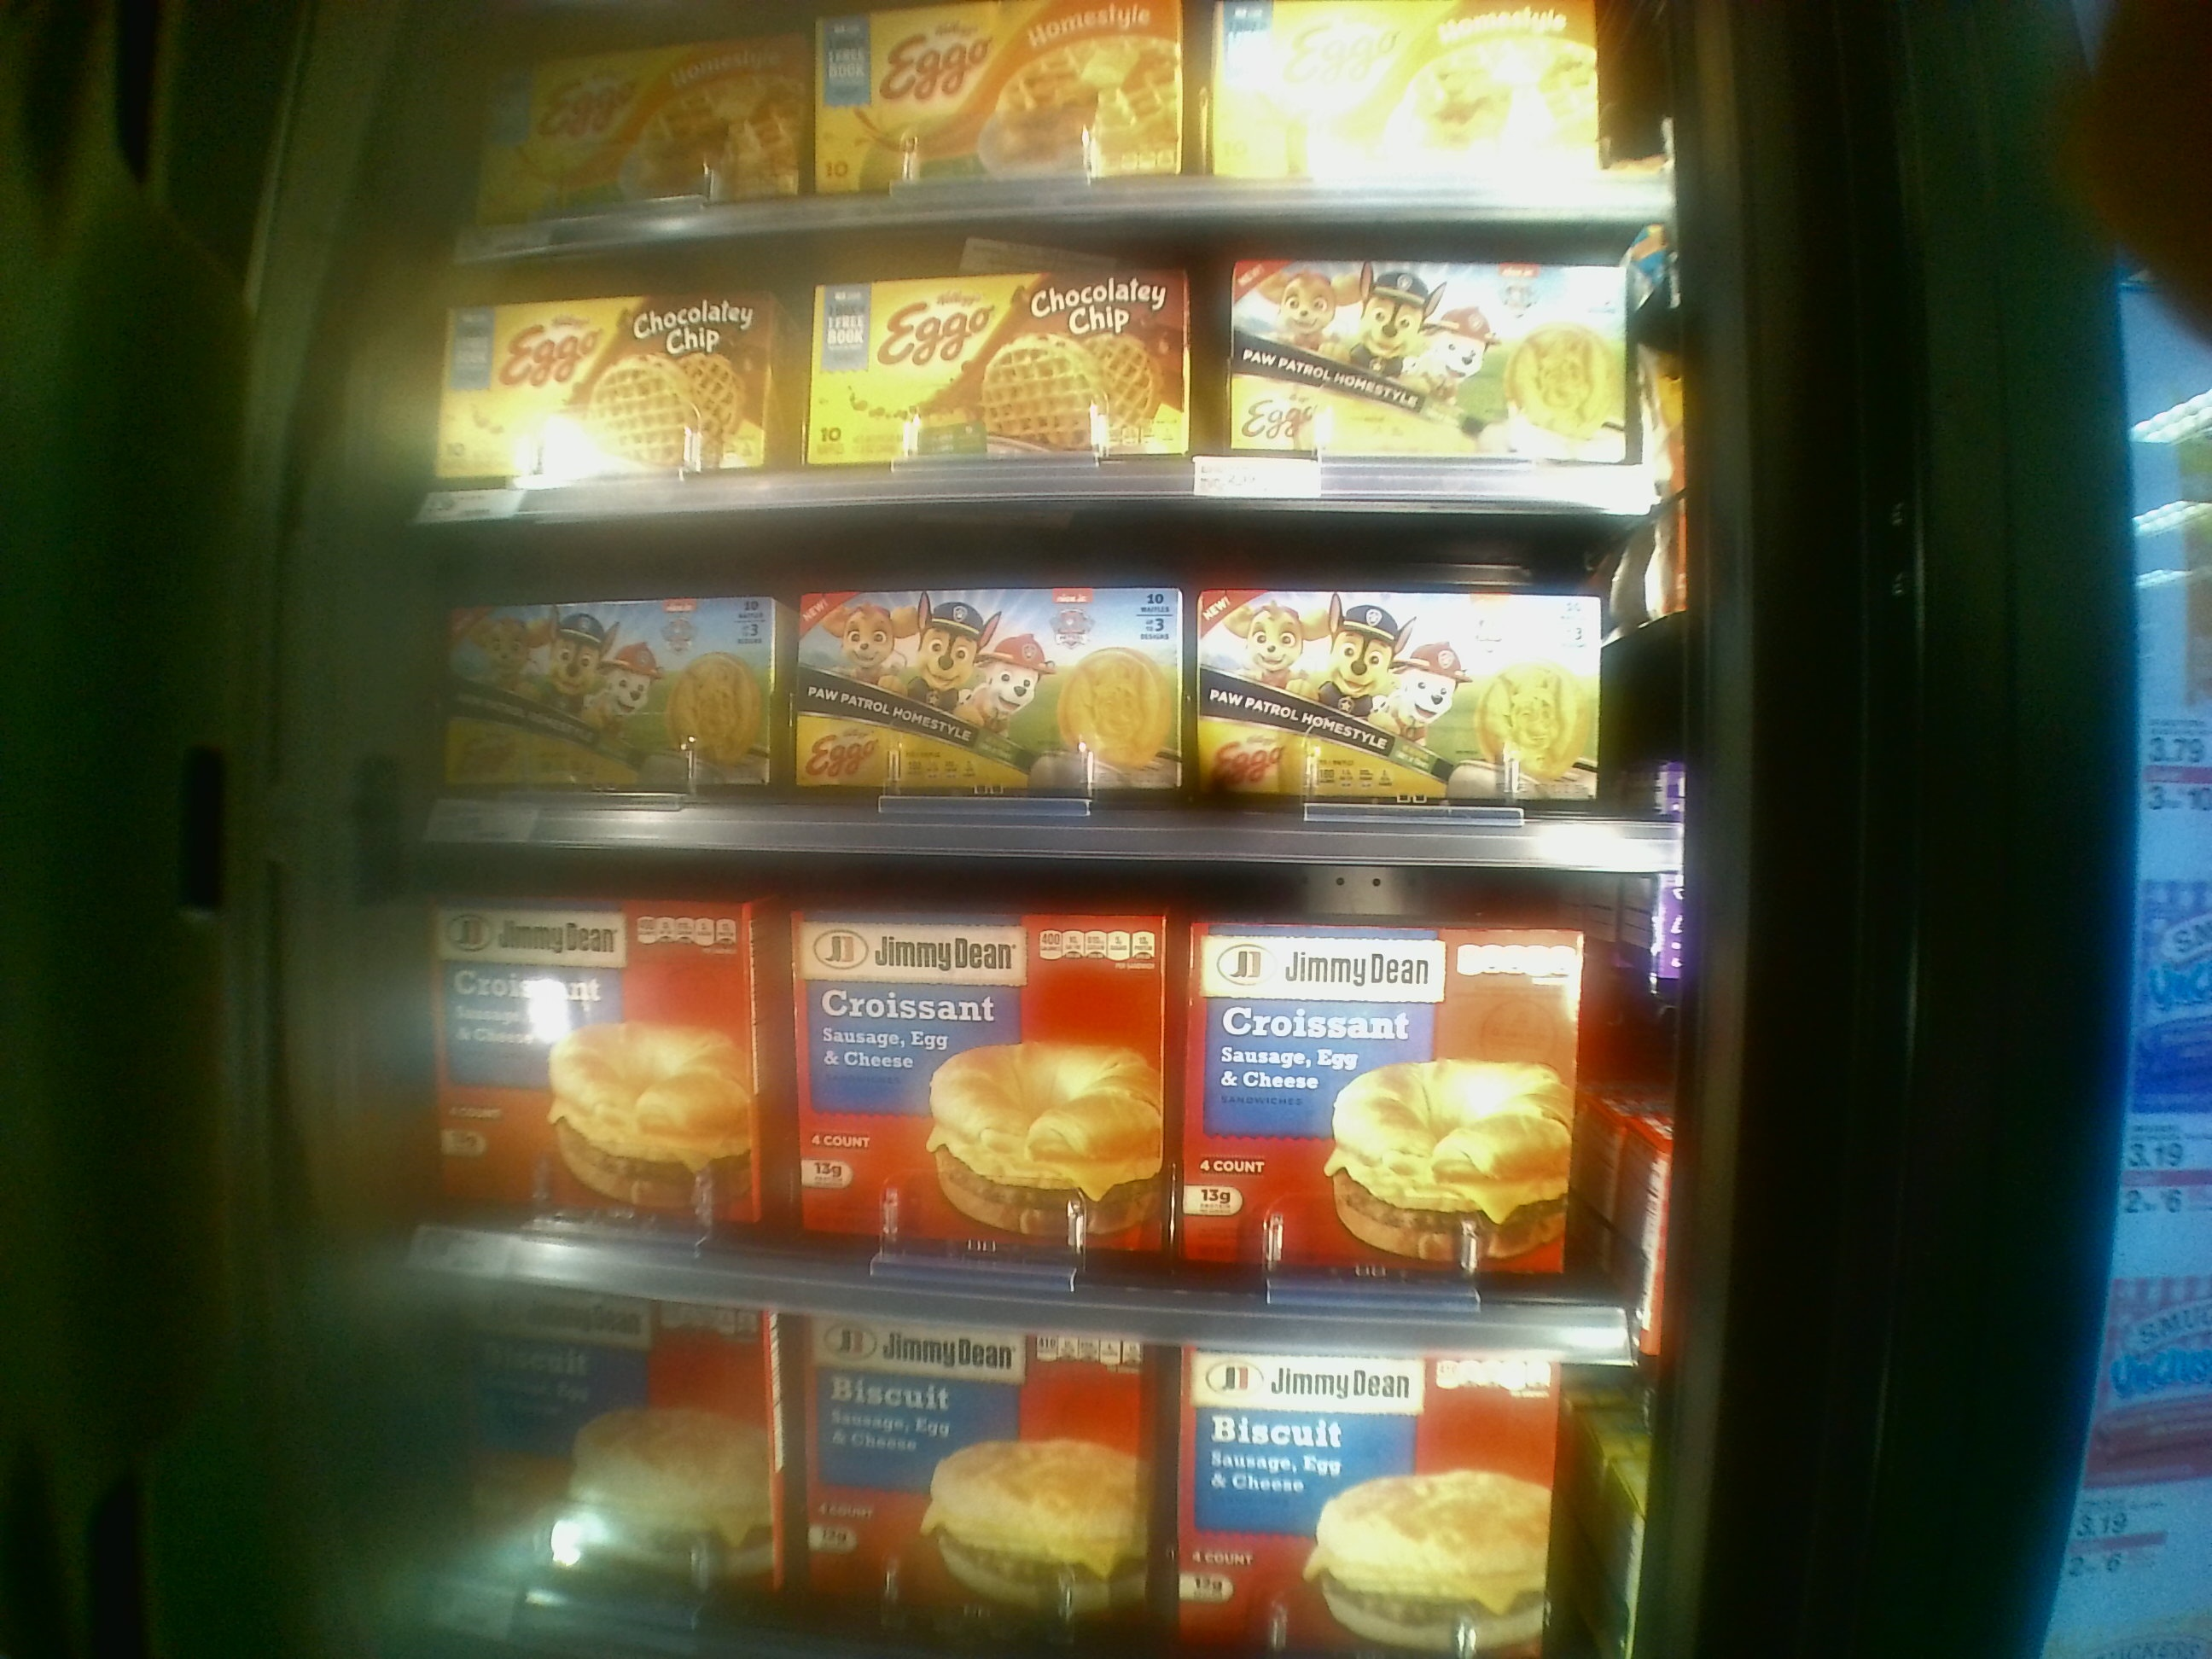shelf: (406, 836, 1635, 1366), (401, 495, 1674, 864)
